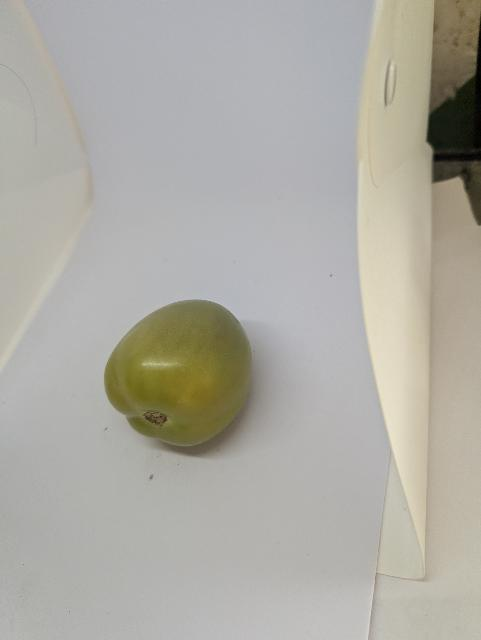green: (85, 278, 277, 485)
